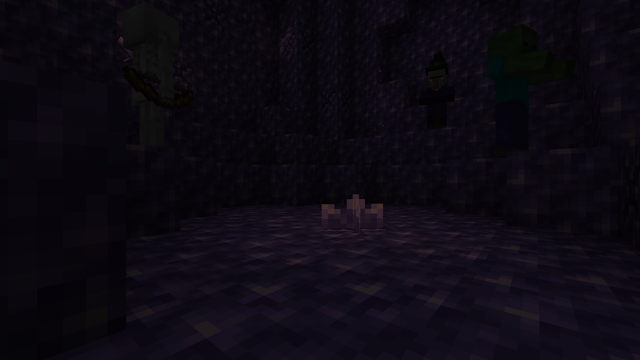sorcieres: (423, 64, 449, 121)
squelettes: (121, 2, 182, 153)
zombies: (487, 23, 534, 158)
